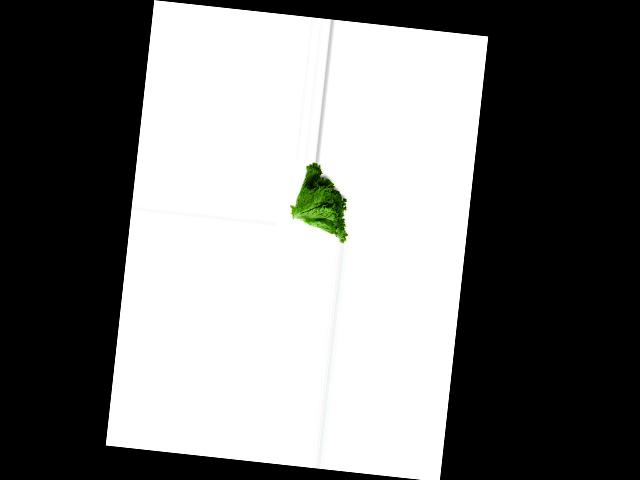lettuce: (289, 160, 356, 244)
